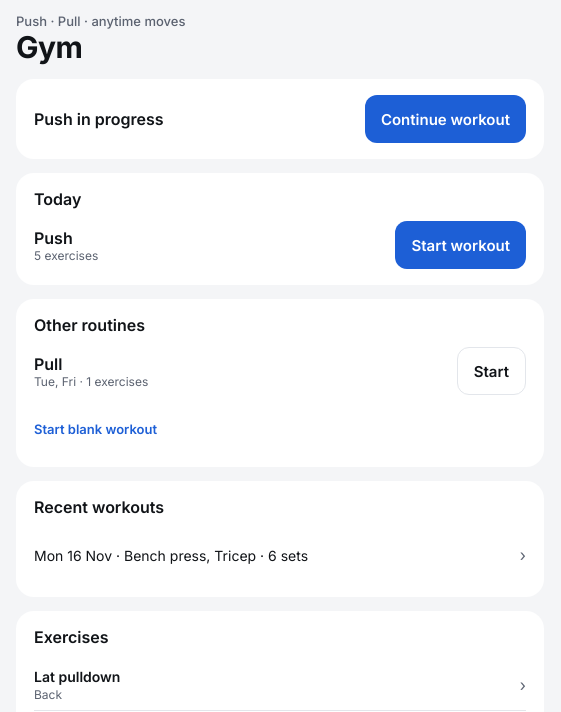
Test: an old workout can't be edited while today's is in progress
Click the button "Mon 16 Nov · Bench press, Tricep · 6 sets ›".
click(280, 555)  # box [34,529,526,581]
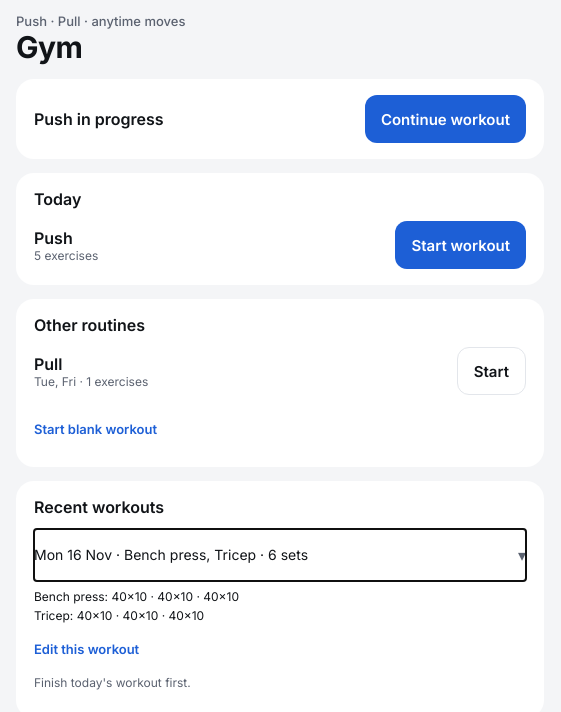
Now the button "Edit this workout" is disabled, box [34,627,139,671]
Now the text "Finish today's workout first." is shown, box [34,675,191,690]
